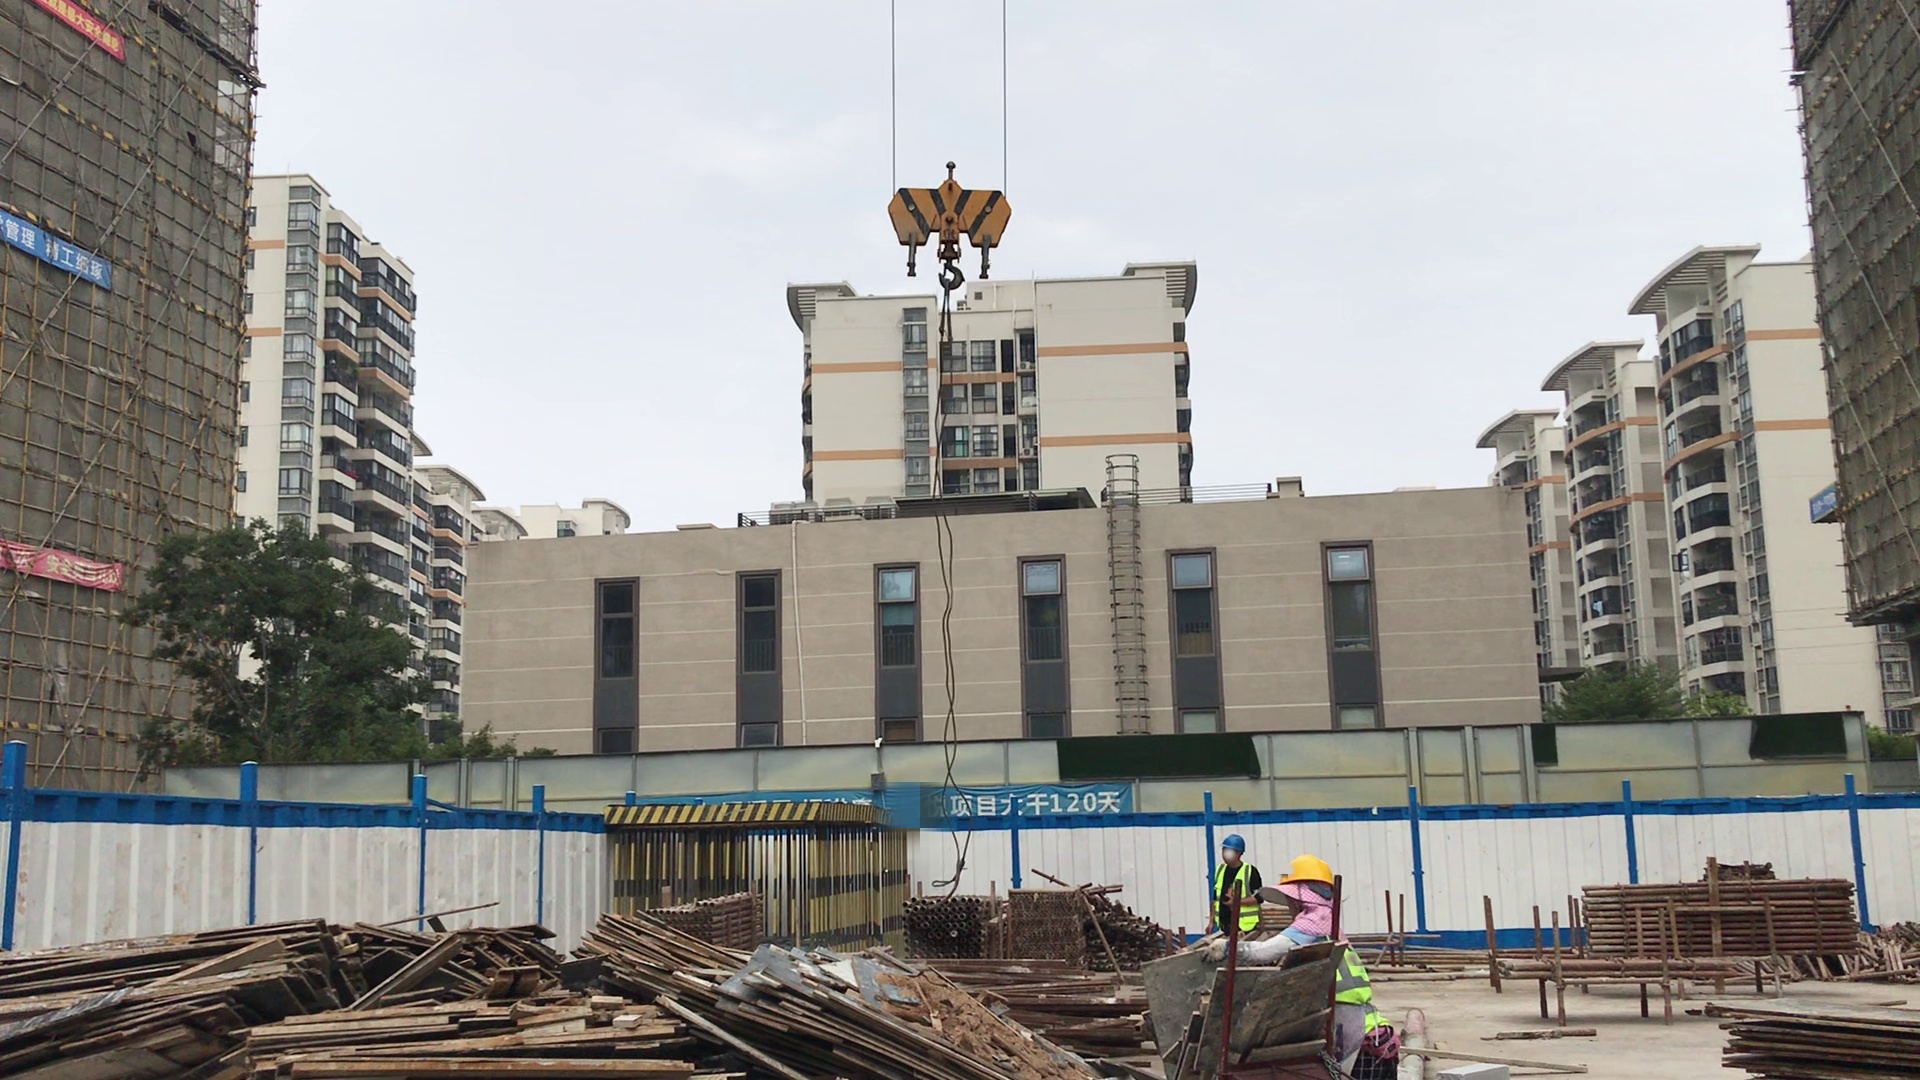board: (1709, 1004, 1920, 1080)
helmet: (1274, 848, 1338, 900), (1217, 829, 1250, 860)
hook: (884, 161, 1010, 292)
person: (1283, 861, 1371, 1016), (1215, 825, 1266, 948)
scaffold: (999, 878, 1091, 973)
slogan: (765, 786, 1135, 819)
vest: (1290, 914, 1376, 1025), (1213, 863, 1254, 921)
